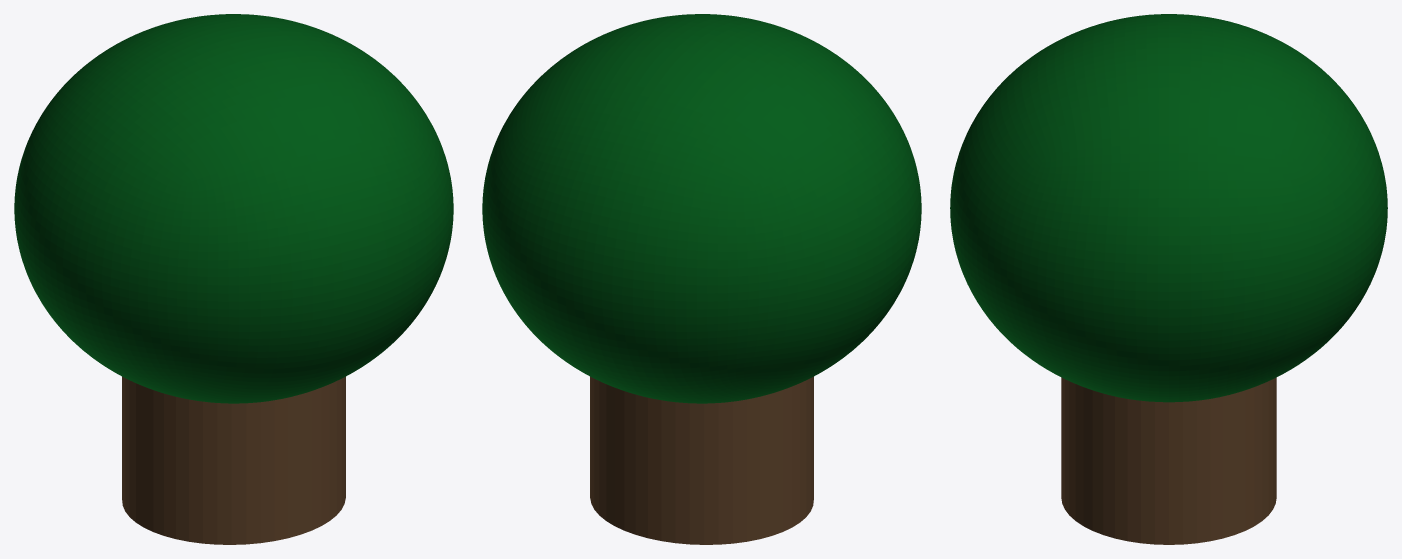
File: tree.glb
The picture shows the model from 3 angles, left to right: view 1: azimuth 30°, elevation 25°; view 2: azimuth 150°, elevation 25°; view 3: azimuth 270°, elevation 25°; orthographic projection.
Visible parts, largest first — view 1: sphere, cylinder; view 2: sphere, cylinder; view 3: sphere, cylinder.
Part boxes in pixels (box(x1,y1,x2,y2)): sphere: box(14, 14, 453, 403); cylinder: box(122, 376, 345, 544); sphere: box(482, 14, 921, 403); cylinder: box(590, 376, 813, 544); sphere: box(950, 14, 1387, 402); cylinder: box(1061, 377, 1276, 544).
Size of the model in its own units: 1.71 by 1.98 by 1.71.
